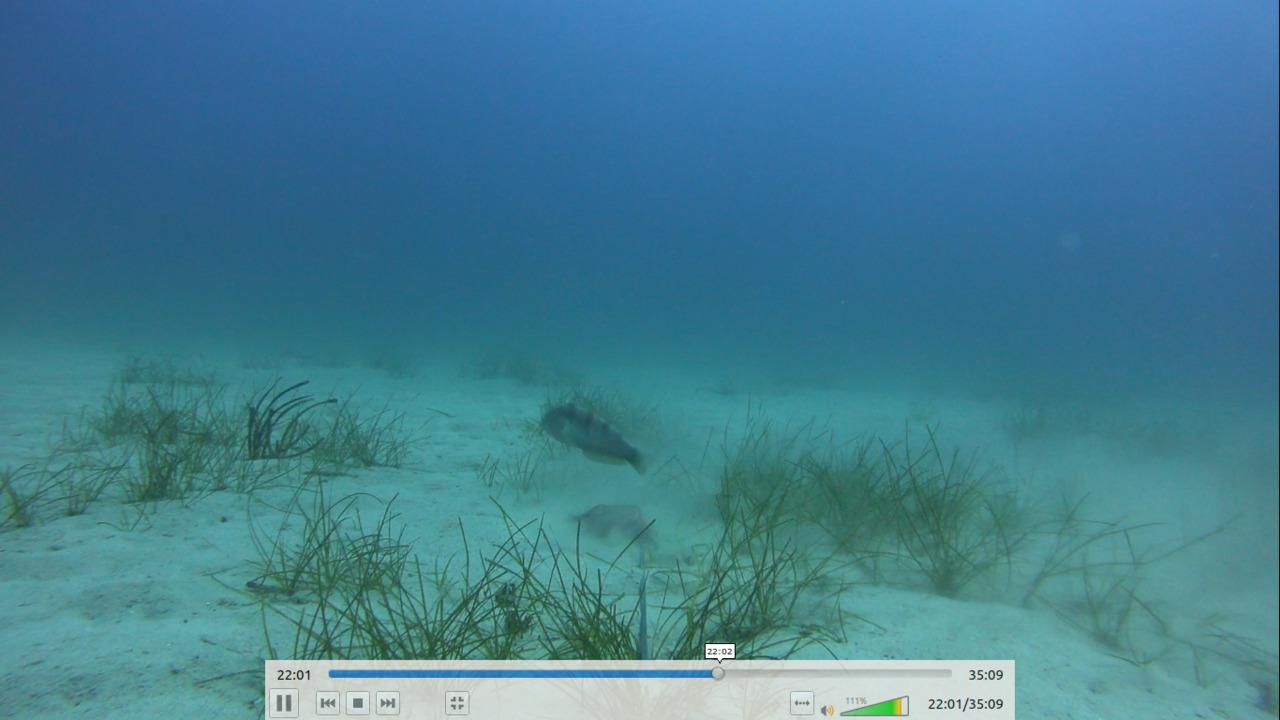raor: (534, 397, 658, 473)
